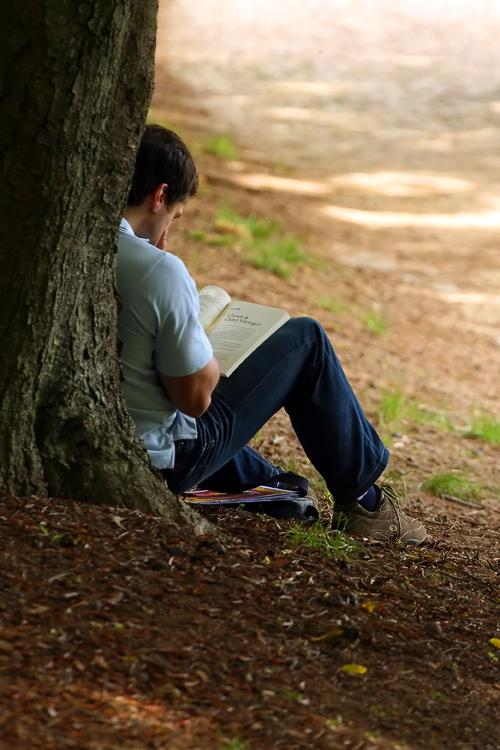person: (113, 124, 392, 534)
